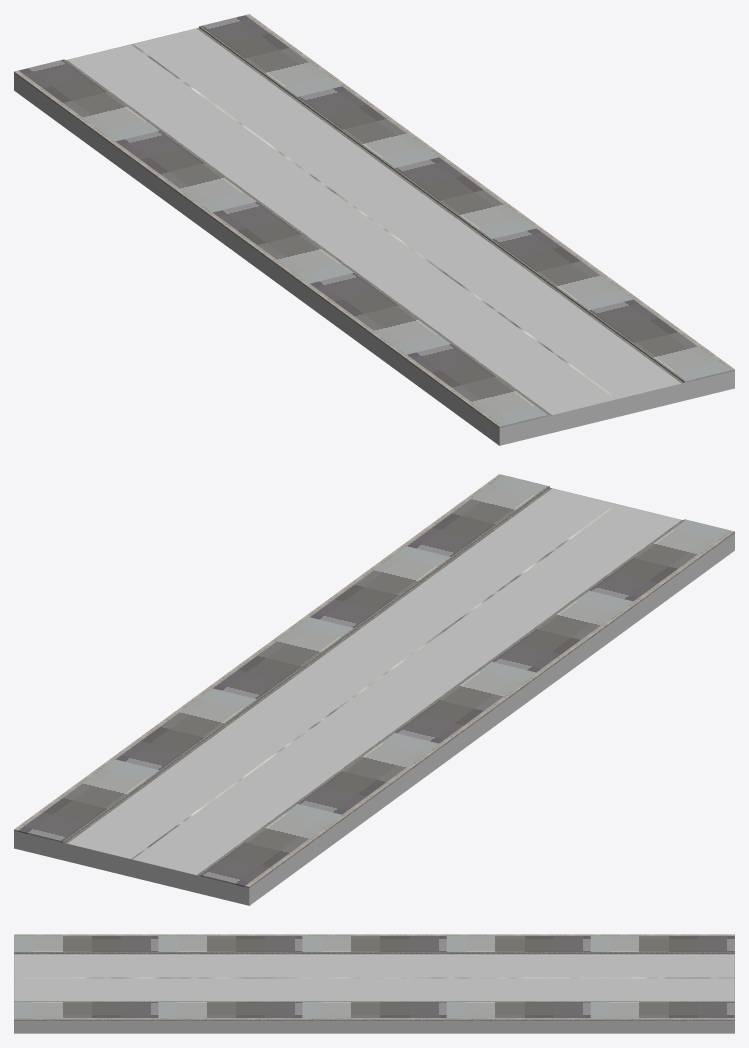
The model's file is Road_01a_st.fbx.
3 renders of one model, top to bottom at view 1: azimuth 30°, elevation 25°; view 2: azimuth 150°, elevation 25°; view 3: azimuth 270°, elevation 25°, orthographic. The views are drawn at different scales.
Parts seen in each view (by area): view 1: Road_01a_st; view 2: Road_01a_st; view 3: Road_01a_st.
Part boxes in pixels (x1,y1,x2,y2): Road_01a_st: [14, 14, 734, 445]; Road_01a_st: [14, 474, 734, 905]; Road_01a_st: [14, 934, 734, 1033].
Size of the model in its own units: 28 by 2.16 by 100.
